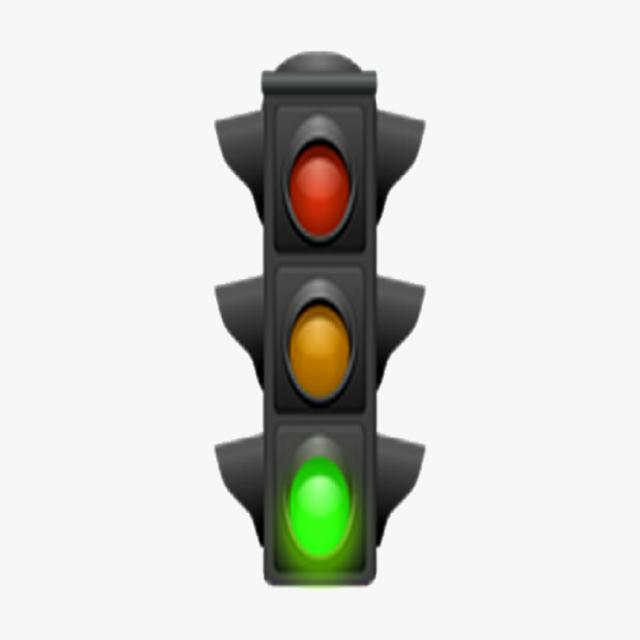green: (282, 435, 360, 562)
